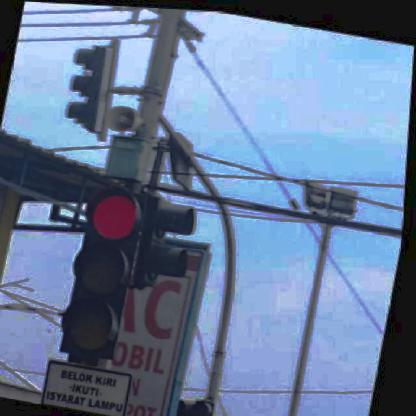Traffic Light -Red-: (62, 180, 149, 358)
